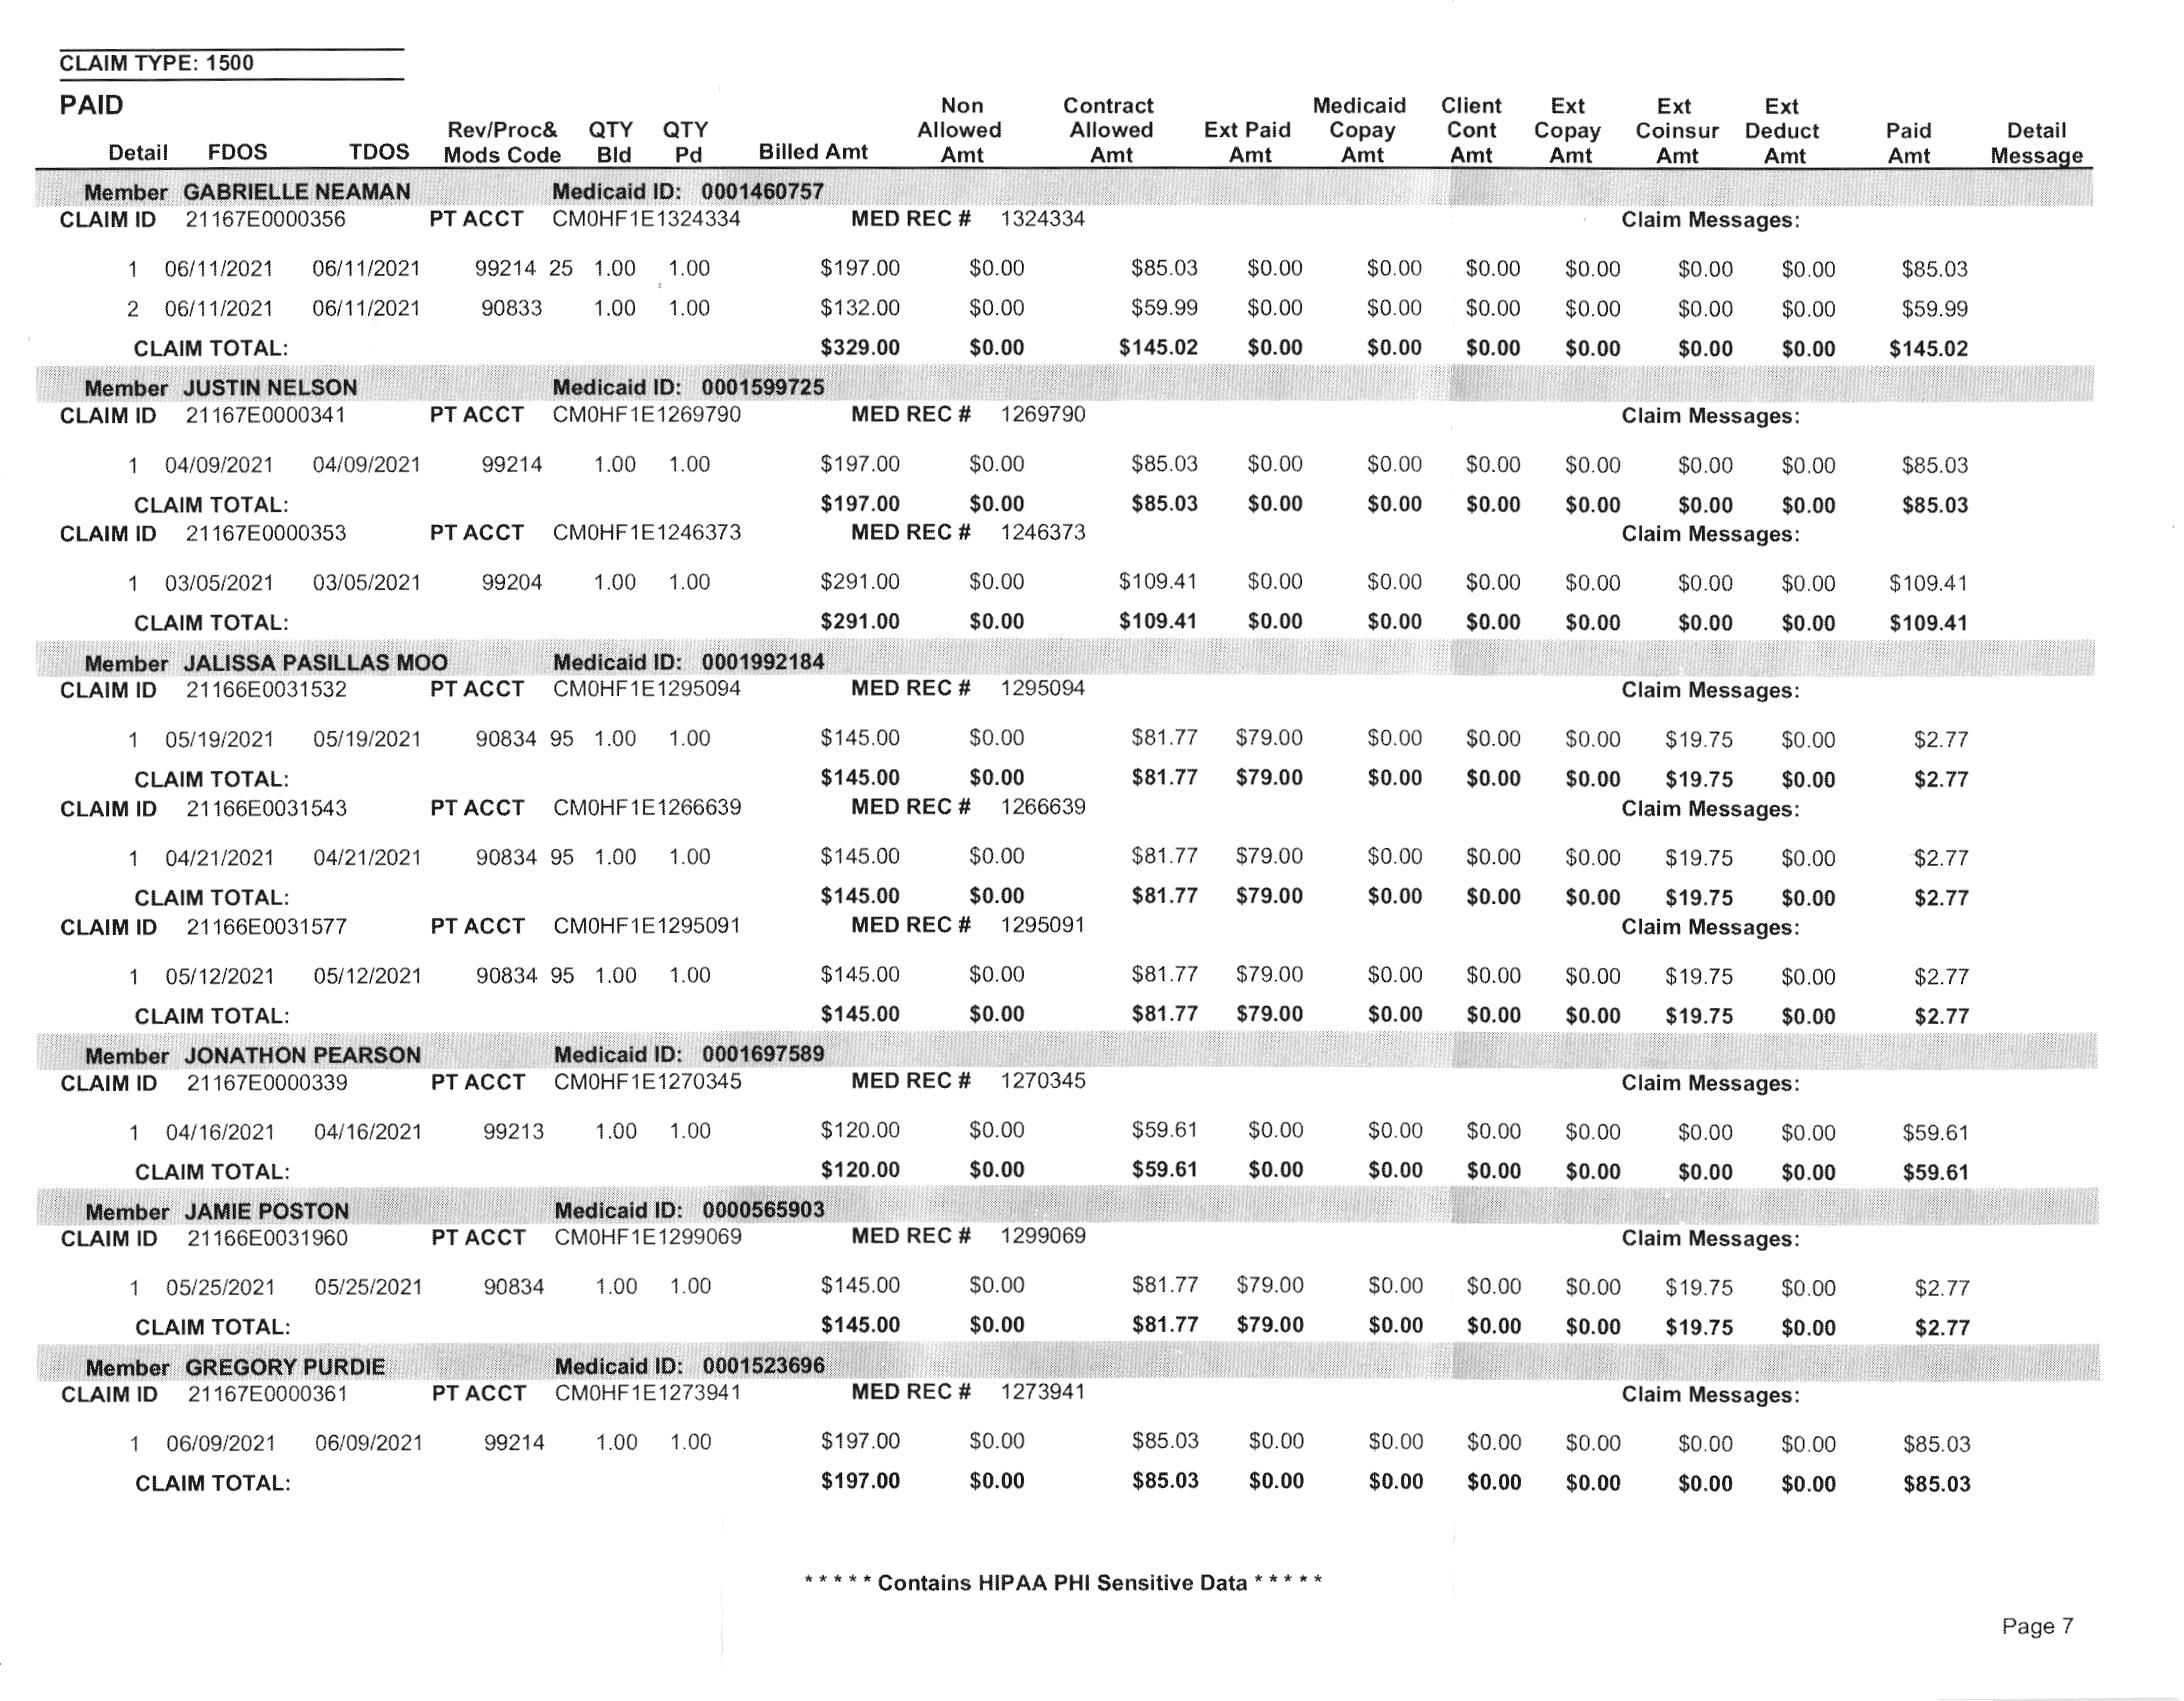table: (21, 80, 2111, 1499)
